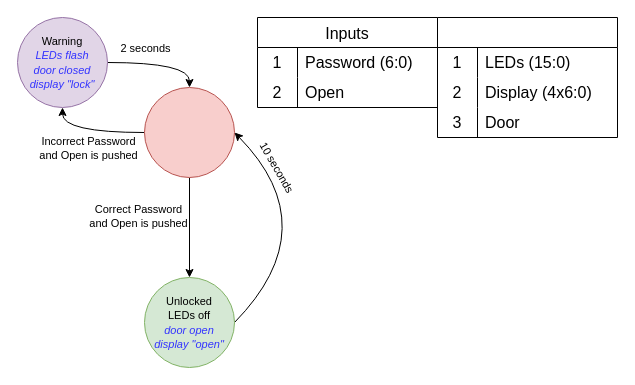
This 635x385 diagram has some shape labels left out. The shapes that lost their labels are listed below. From the top down, each one's box as (x1, y1, x2, y2) in pixels, then its label:
(436, 16, 618, 138): Outputs
(144, 86, 234, 178): Locked LEDs off door closed display "lock"
